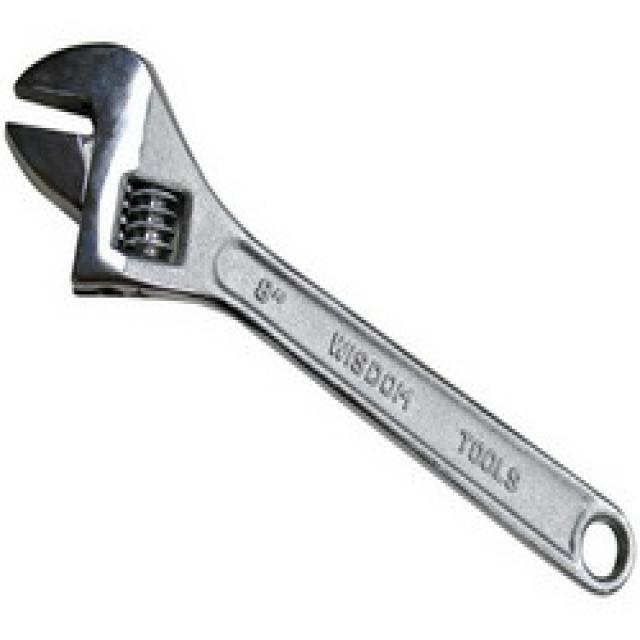wrench: (0, 0, 637, 603)
